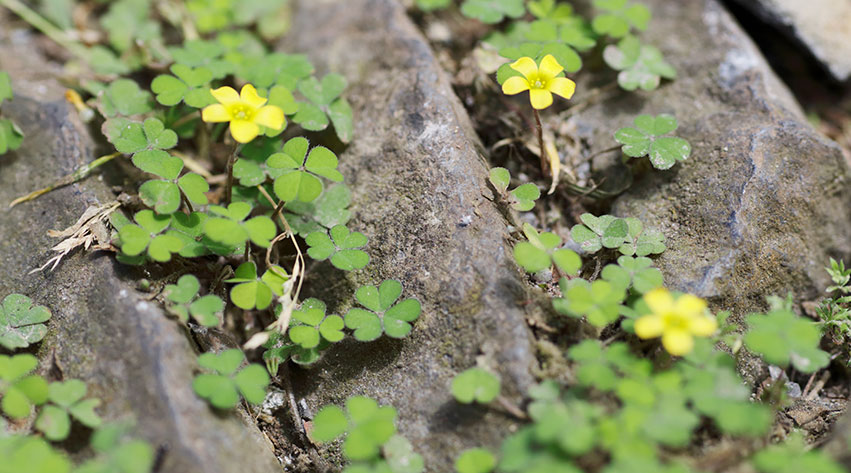oxalis: (465, 10, 809, 473), (85, 24, 409, 376)
